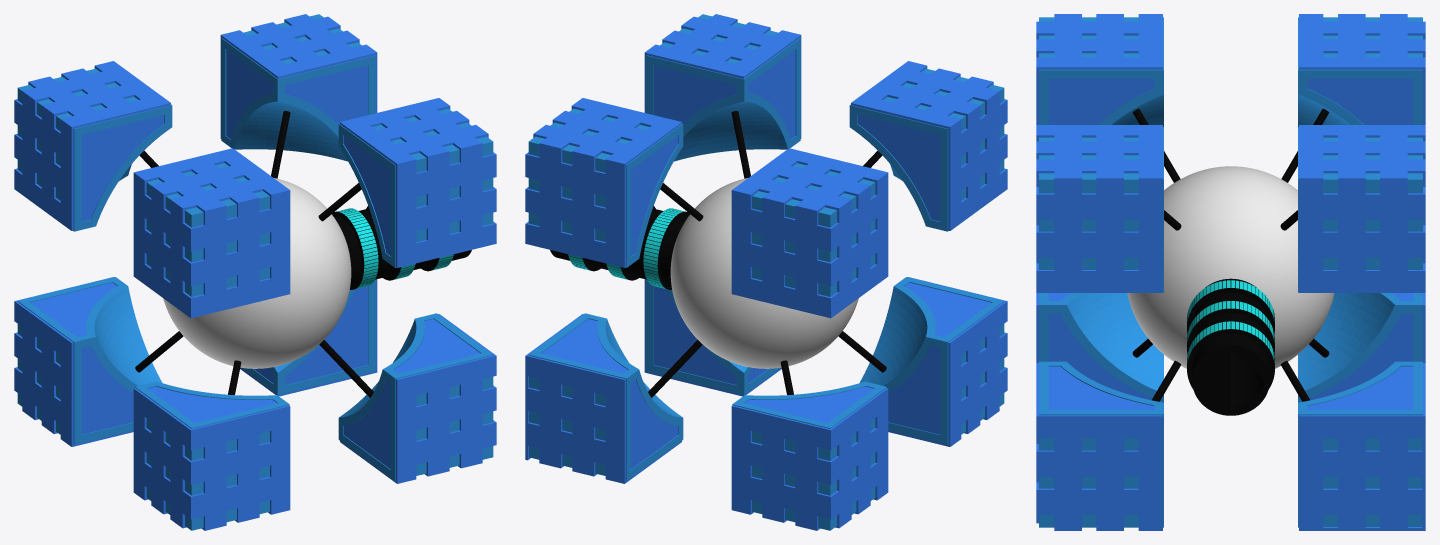
The model's file is PlayerSkin2.fbx.
3 views of the same model, side by side, from view 1: azimuth 30°, elevation 25°; view 2: azimuth 150°, elevation 25°; view 3: azimuth 270°, elevation 25° (orthographic). The views are drawn at different scales.
Parts seen in each view (by area): view 1: Player.001, Player.002, PlayerCore.001, Gun.001, Pipes.001, Gun.002; view 2: Player.001, Player.002, PlayerCore.001, Gun.001, Pipes.001, Gun.002; view 3: Player.001, Player.002, PlayerCore.001, Gun.001, Pipes.001, Gun.002.
Part boxes in pixels (bbox=[...]): Player.001: bbox=[14, 14, 496, 530]; Player.002: bbox=[17, 14, 493, 530]; PlayerCore.001: bbox=[163, 178, 351, 368]; Gun.001: bbox=[332, 206, 471, 289]; Pipes.001: bbox=[135, 111, 373, 397]; Gun.002: bbox=[335, 208, 453, 289]; Player.001: bbox=[525, 14, 1007, 530]; Player.002: bbox=[528, 14, 1004, 530]; PlayerCore.001: bbox=[670, 178, 858, 368]; Gun.001: bbox=[550, 206, 689, 289]; Pipes.001: bbox=[648, 111, 886, 397]; Gun.002: bbox=[568, 208, 686, 289]; Player.001: bbox=[1036, 14, 1425, 530]; Player.002: bbox=[1039, 17, 1422, 527]; PlayerCore.001: bbox=[1127, 166, 1334, 368]; Gun.001: bbox=[1187, 278, 1274, 415]; Pipes.001: bbox=[1132, 108, 1329, 401]; Gun.002: bbox=[1187, 280, 1274, 362].
Bounding box in the file's own units: 231 × 200 × 200.
